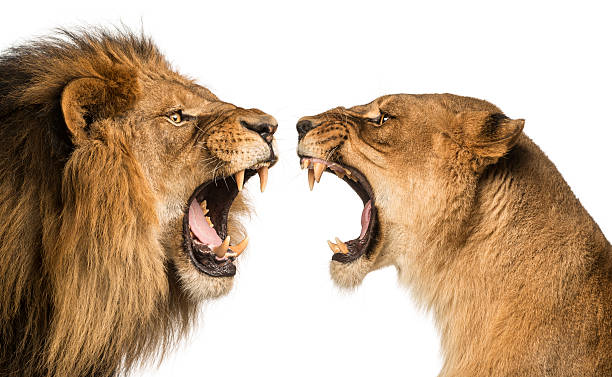lion: (1, 24, 280, 377)
